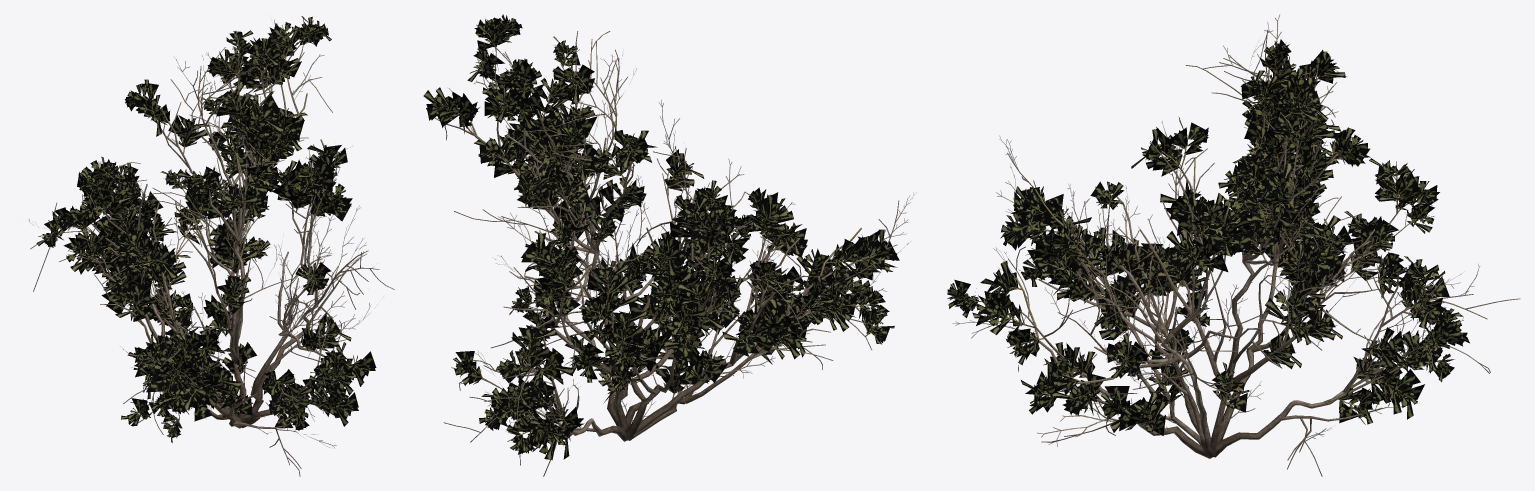
The model's file is bush_small.glb.
The picture shows the model from 3 angles, left to right: view 1: azimuth 30°, elevation 25°; view 2: azimuth 150°, elevation 25°; view 3: azimuth 270°, elevation 25°; orthographic projection. The views are drawn at different scales.
Visible parts, largest first — view 1: searsia_burchellii_small_LOD0; view 2: searsia_burchellii_small_LOD0; view 3: searsia_burchellii_small_LOD0.
Part boxes in pixels (left/top/right/bottom): searsia_burchellii_small_LOD0: left=28, top=16, right=394, bottom=476; searsia_burchellii_small_LOD0: left=423, top=14, right=914, bottom=476; searsia_burchellii_small_LOD0: left=947, top=14, right=1520, bottom=476.
Size of the model in its own units: 1.65 by 1.94 by 2.27.
3 materials, 3 textured.
